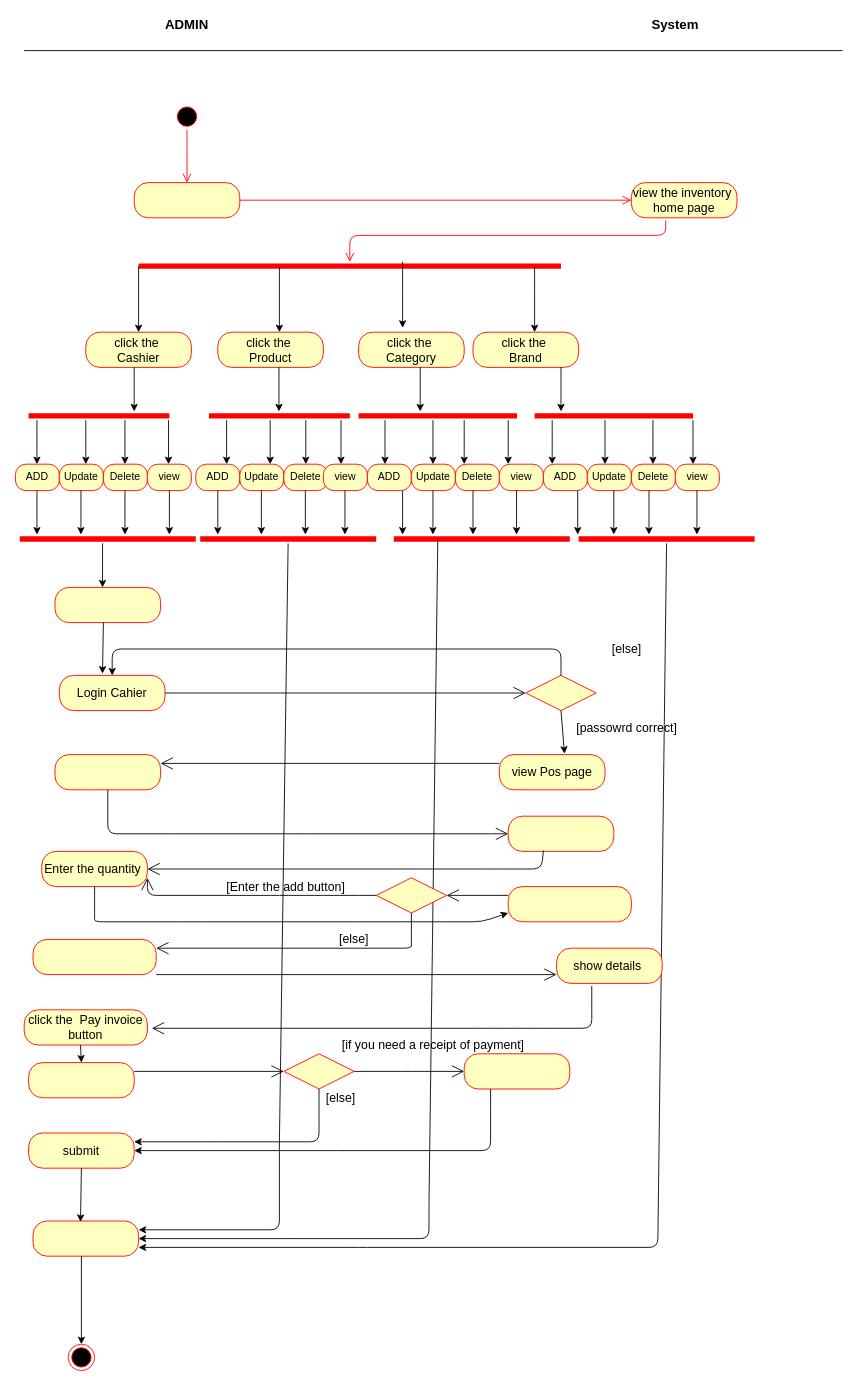
The diagram is 859 pixels wide and 1386 high, and some of its shapes have lost their labels. Each missing label, with the box of its shape:
Auto generate the product details: (507, 815, 614, 851)
Calculate the subtotal: (507, 886, 631, 922)
click the inventory: (133, 182, 240, 218)
click the Pos: (54, 587, 161, 623)
Enter product code: (54, 754, 161, 790)
Enter the payment: (32, 939, 156, 975)
EXIT: (32, 1220, 139, 1256)
generate the receipt: (28, 1062, 134, 1098)
print the recite: (463, 1053, 570, 1089)
